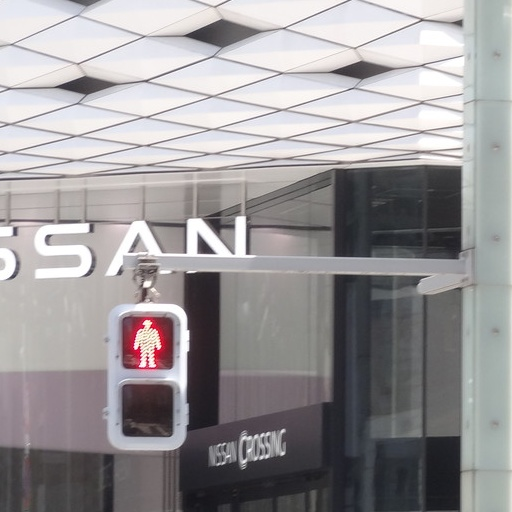Pedestrian_Signal_Red: (107, 297, 192, 449)
